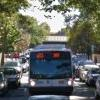Bus: (27, 40, 79, 96)
